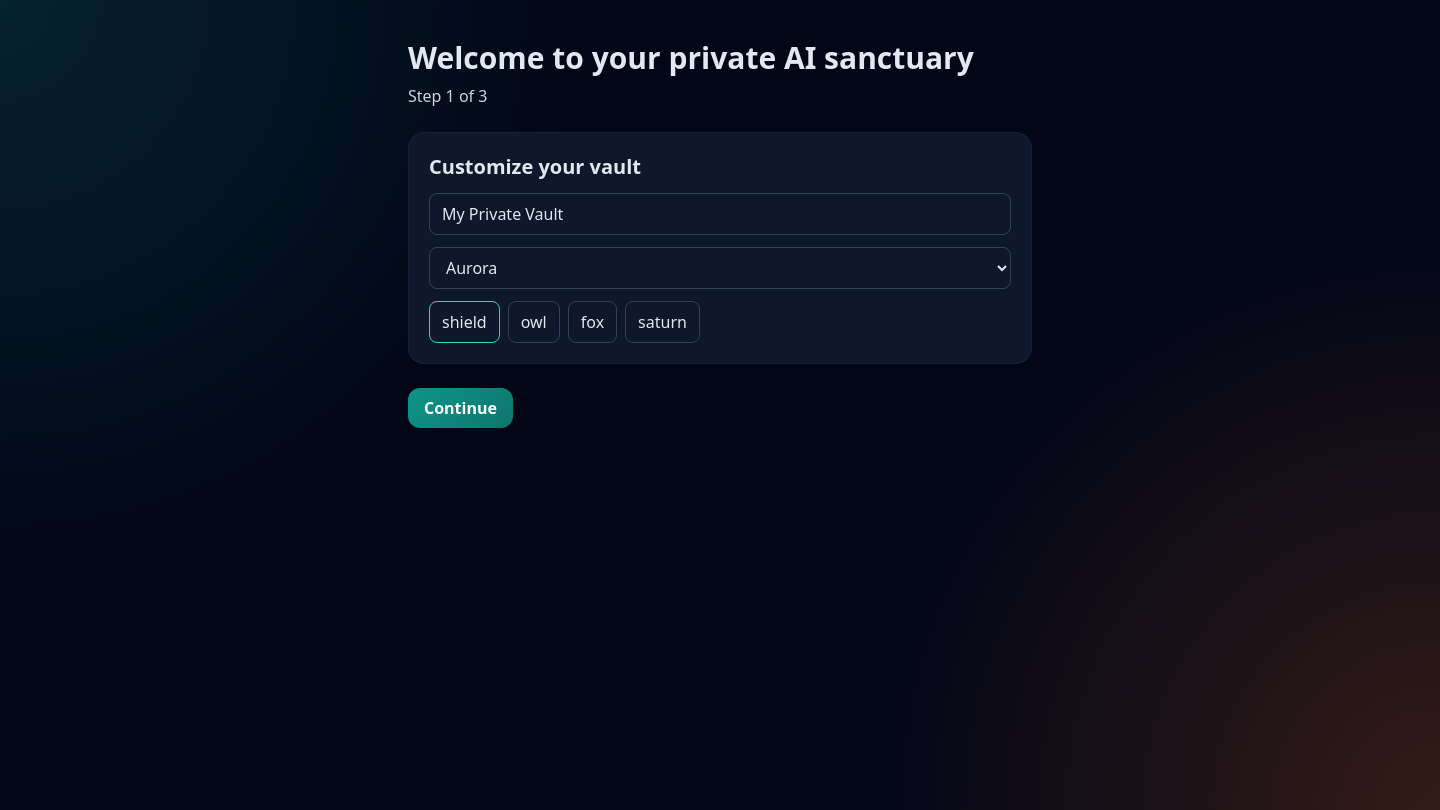
it: Onboarding flow › advances through 3 steps
Expected: the text "Step 1 of 3" is shown, [408,85,487,107]
Click the button "Continue" at (460, 408), box [408,388,513,428]
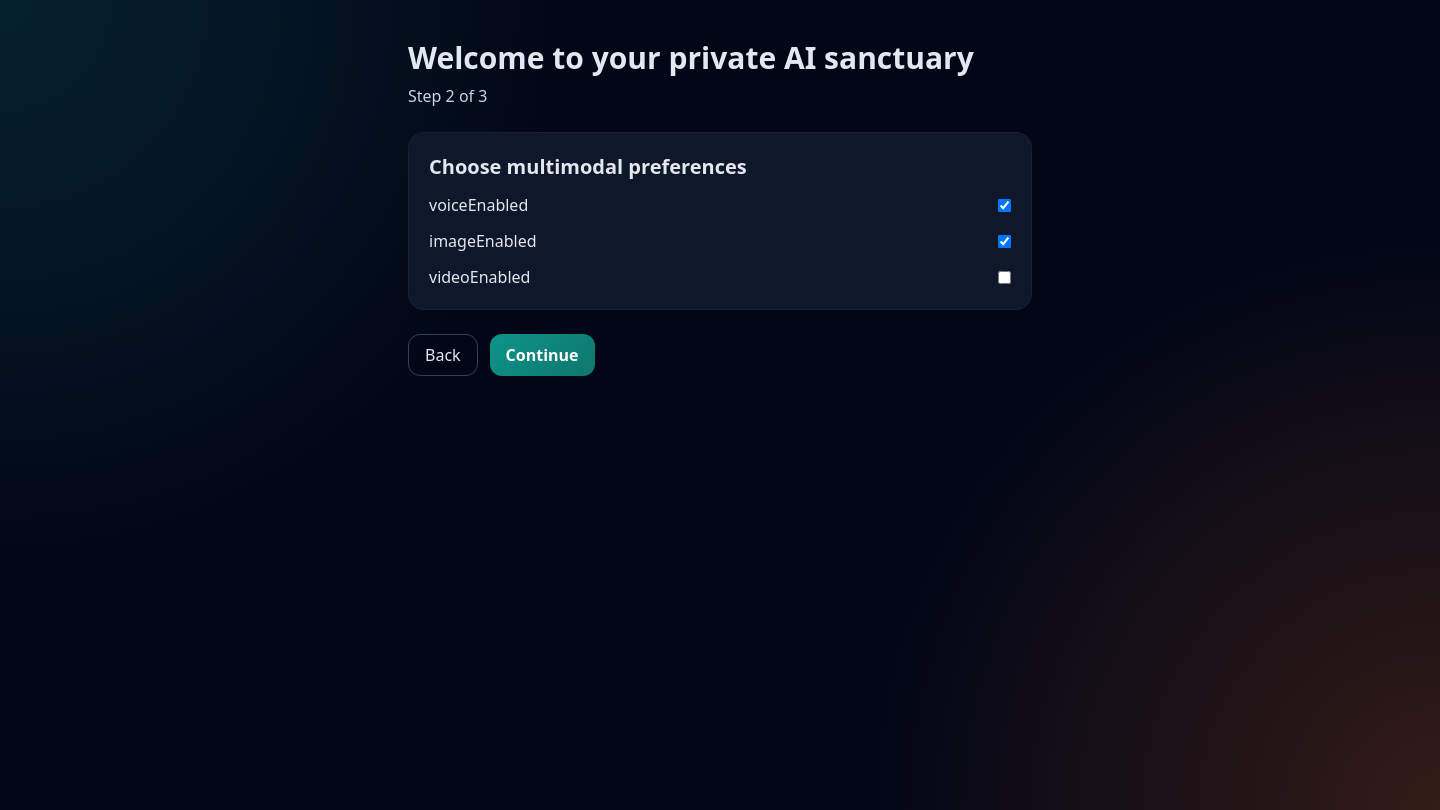
Result: the text "Step 2 of 3" is shown at [408,85,487,107]
Click the button "Continue" at (542, 355), box [490,334,594,376]
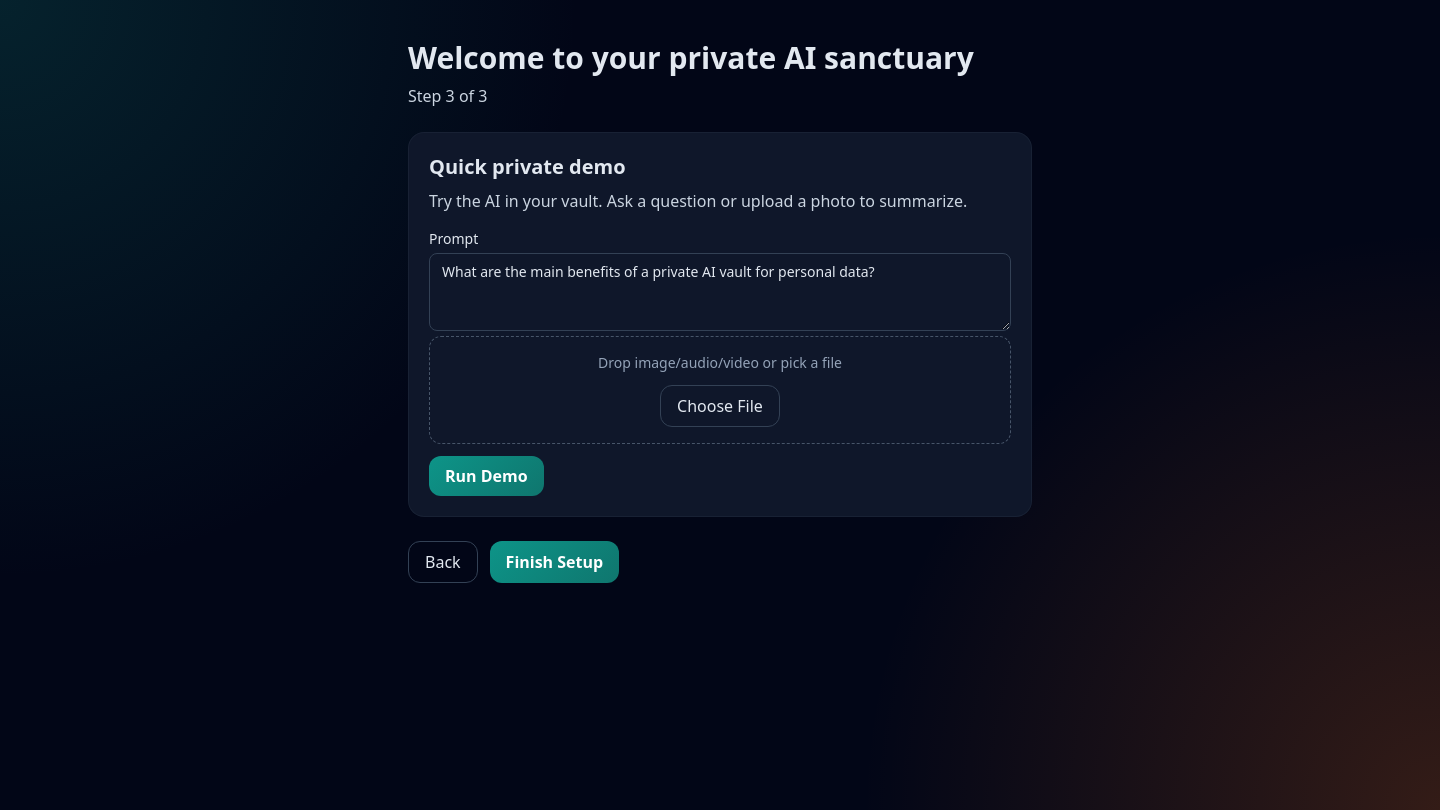
Result: the text "Step 3 of 3" is shown at [408,85,487,107]
